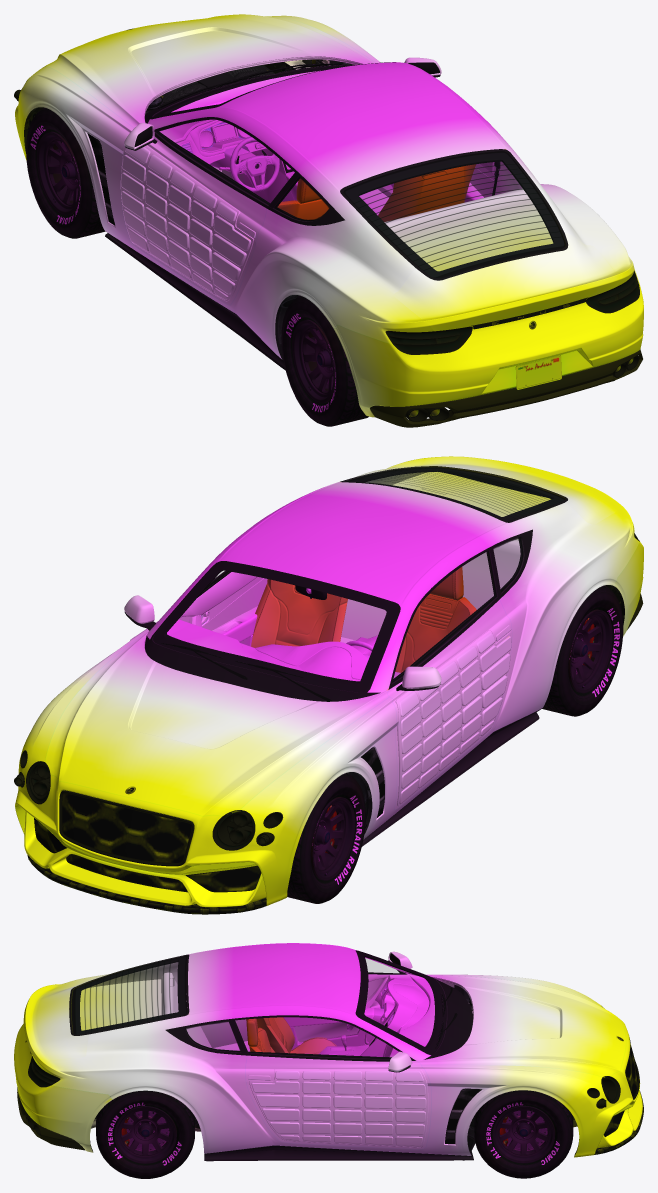
Rendered from paragon2.glb.
3 views of the same model, one above another, from view 1: azimuth 30°, elevation 25°; view 2: azimuth 150°, elevation 25°; view 3: azimuth 270°, elevation 25° (orthographic). The views are drawn at different scales.
Parts seen in each view (by area): view 1: bodyshell, chassis, misc_g, windscreen_r, bonnet, boot, bumper_r, misc_x, wheel_lr, wheel_lf, misc_z, window_lf (+8 smaller); view 2: bodyshell, bonnet, misc_g, chassis, misc_x, misc_c, misc_r, misc_z, wheel_lf, wheel_lr, misc_d, windscreen_r (+7 smaller); view 3: bodyshell, bonnet, chassis, misc_y, misc_g, wheel_rf, wheel_rr, windscreen_r, window_rf, boot, bumper_r, door_pside_f (+8 smaller).
Boxes of the visible parts, x1,y1,x2,y2 form: bodyshell: [15, 15, 639, 358]; chassis: [24, 59, 639, 360]; misc_g: [219, 62, 505, 189]; windscreen_r: [343, 151, 564, 278]; bonnet: [45, 14, 375, 127]; boot: [393, 233, 622, 362]; bumper_r: [334, 283, 643, 421]; misc_x: [120, 145, 253, 301]; wheel_lr: [281, 295, 368, 426]; wheel_lf: [26, 108, 105, 238]; misc_z: [154, 66, 564, 277]; window_lf: [157, 120, 293, 204]; bodyshell: [15, 458, 639, 914]; bonnet: [45, 632, 389, 816]; misc_g: [219, 482, 505, 605]; chassis: [19, 466, 639, 849]; misc_x: [395, 630, 511, 806]; misc_c: [24, 811, 266, 907]; misc_r: [251, 567, 476, 672]; misc_z: [153, 468, 563, 691]; wheel_lf: [287, 773, 365, 903]; wheel_lr: [542, 585, 623, 716]; misc_d: [61, 792, 191, 863]; windscreen_r: [346, 467, 564, 521]; bodyshell: [28, 943, 643, 1157]; bonnet: [417, 975, 625, 1077]; chassis: [28, 951, 620, 1159]; misc_y: [249, 1069, 428, 1147]; misc_g: [188, 943, 360, 1015]; wheel_rf: [474, 1090, 573, 1178]; wheel_rr: [96, 1090, 194, 1178]; windscreen_r: [71, 956, 187, 1034]; window_rf: [235, 1018, 397, 1058]; boot: [17, 981, 88, 1078]; bumper_r: [14, 1024, 112, 1152]; door_pside_f: [245, 1051, 431, 1149].
Size of the model in its own units: 2.12 by 1.41 by 4.98.
25 materials, 16 textured.
